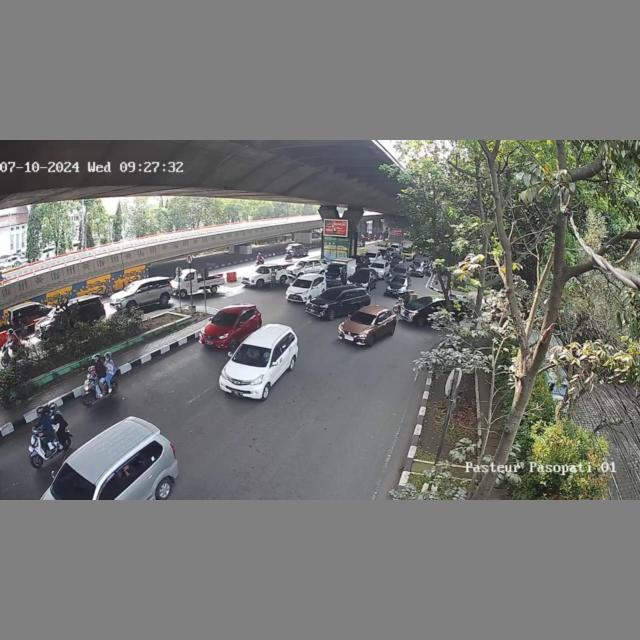windshield: (50, 464, 98, 500), (234, 344, 274, 365), (352, 310, 377, 327), (211, 314, 237, 326), (290, 278, 314, 287)
